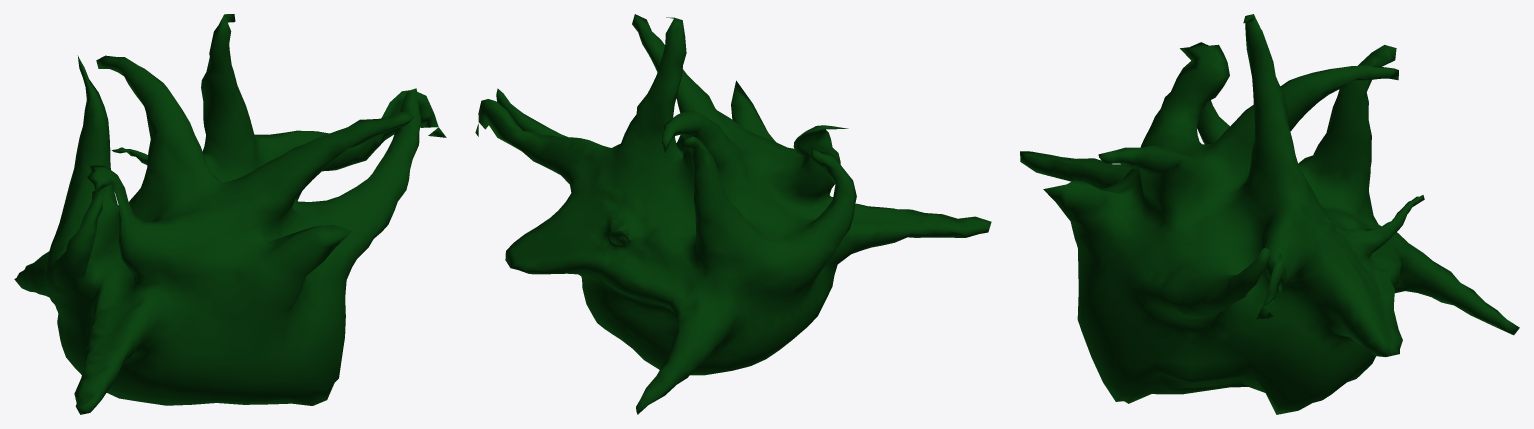
The model's file is jump_cthulhu_0012.obj.
3 renders of one model, left to right at view 1: azimuth 30°, elevation 25°; view 2: azimuth 150°, elevation 25°; view 3: azimuth 270°, elevation 25°, orthographic. The views are drawn at different scales.
Parts seen in each view (by area): view 1: Cube; view 2: Cube; view 3: Cube.
Boxes of the visible parts, bbox=[...] form: Cube: bbox=[14, 14, 446, 414]; Cube: bbox=[475, 14, 991, 414]; Cube: bbox=[1020, 14, 1519, 414].
Bounding box in the file's own units: 1.27 × 0.9197 × 1.08.
